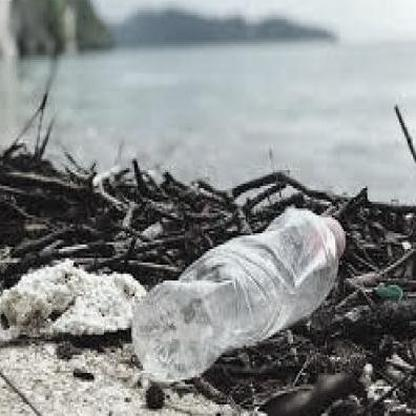plastic bottle: (132, 207, 346, 383)
